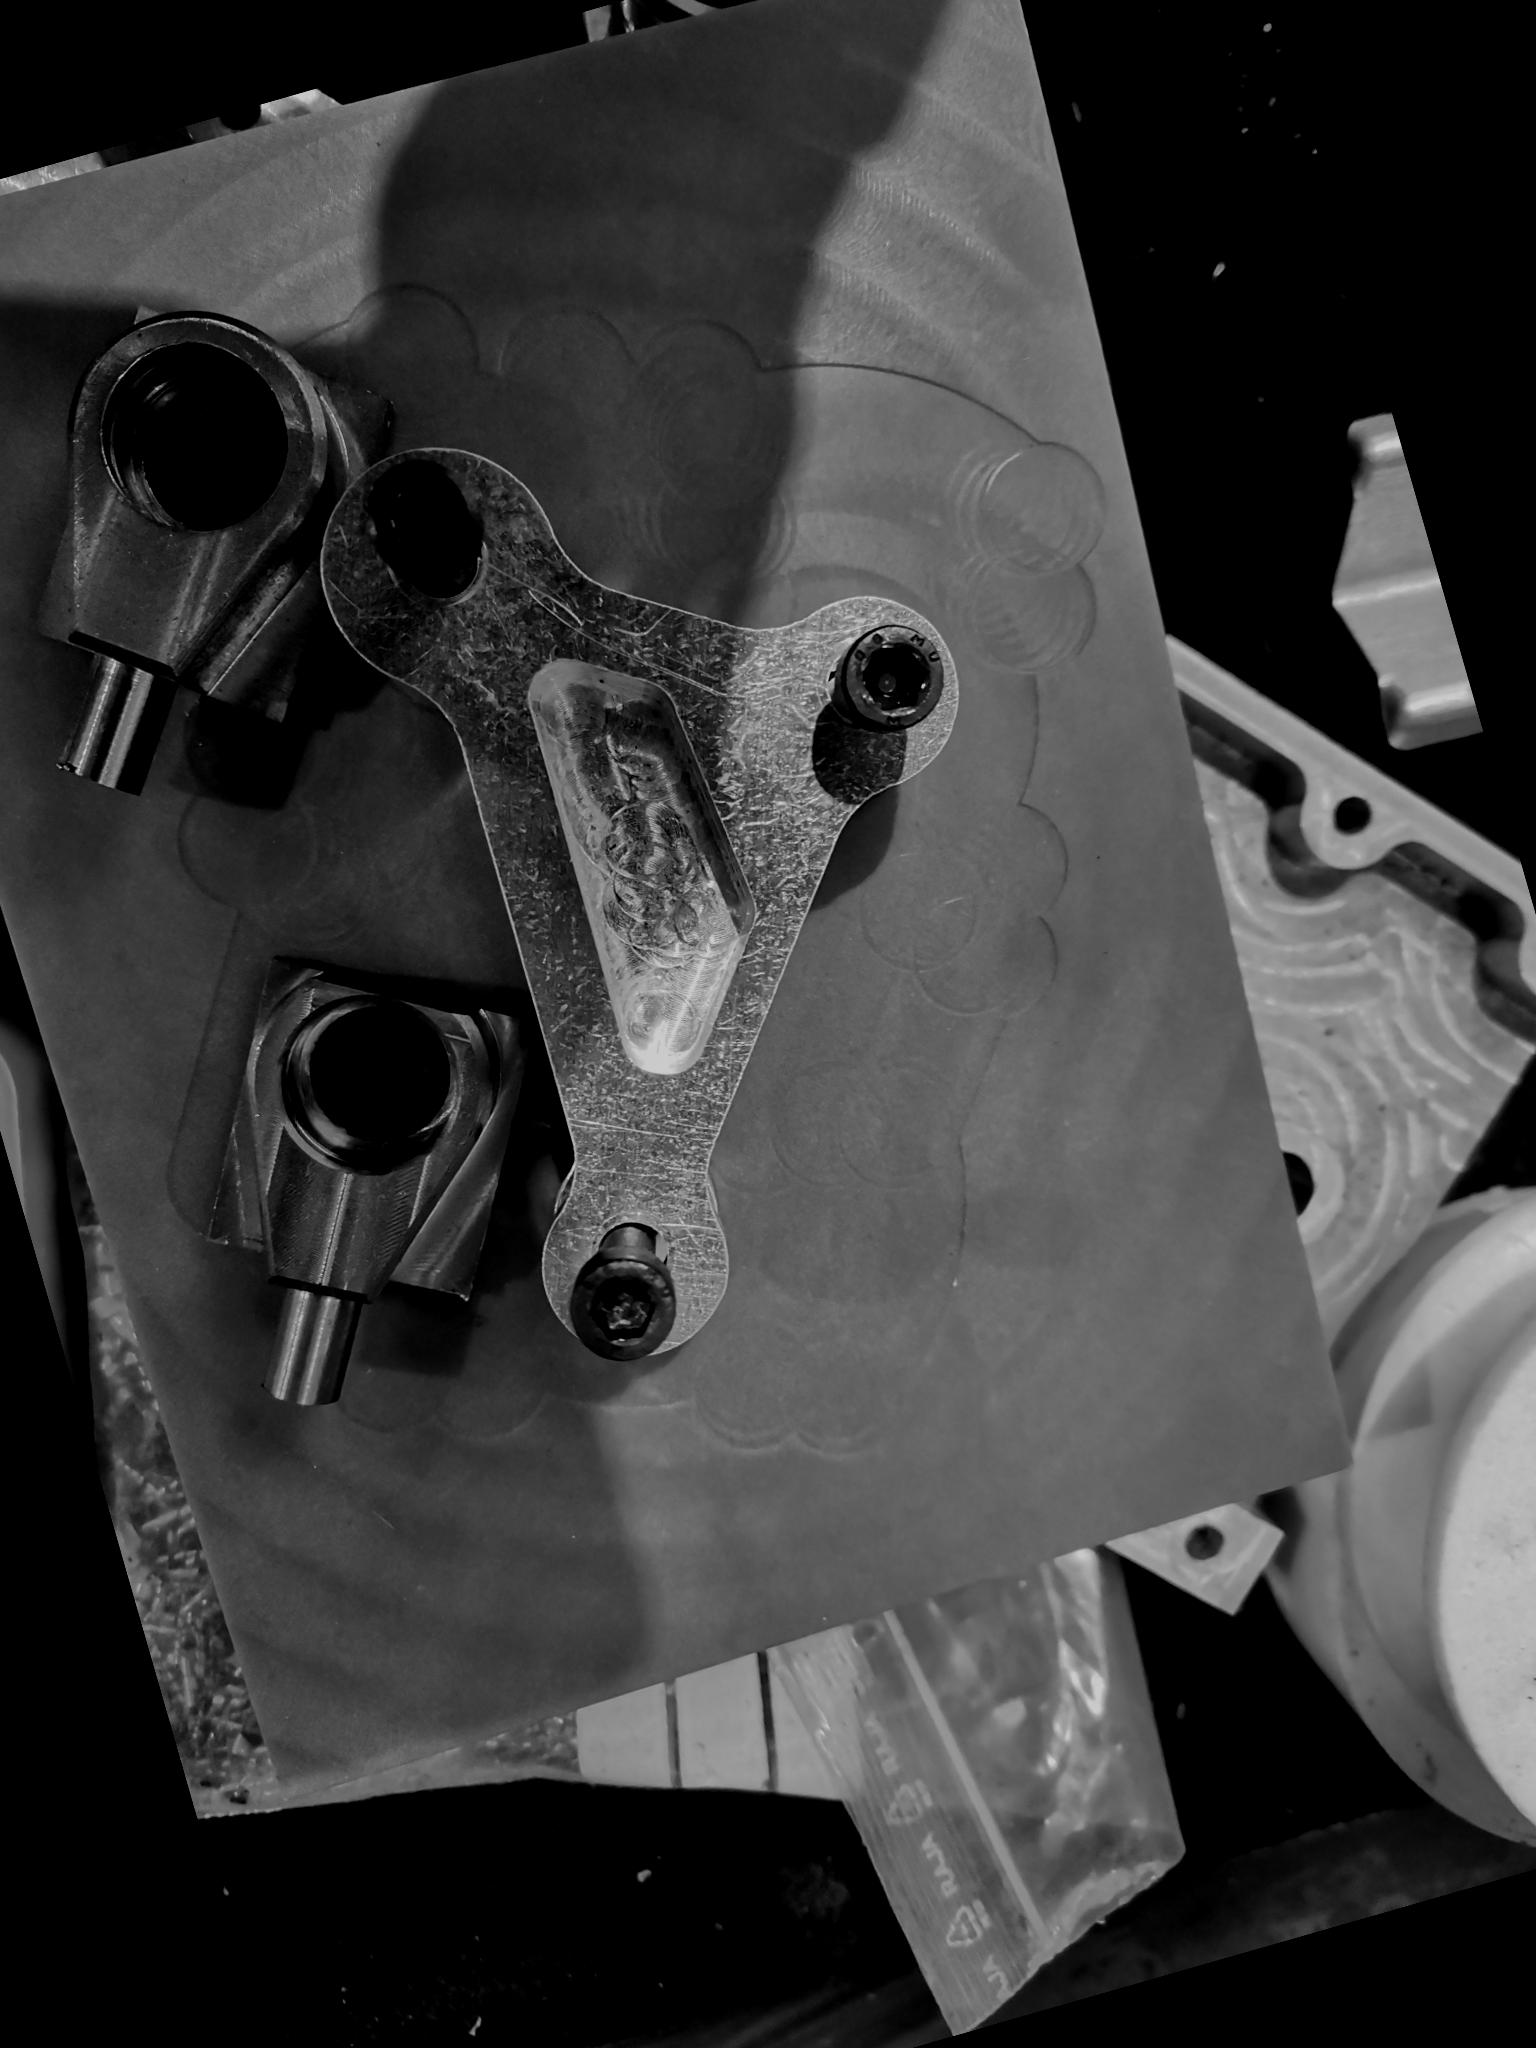screw: (339, 434, 502, 593), (818, 603, 973, 756), (542, 1235, 695, 1384)
